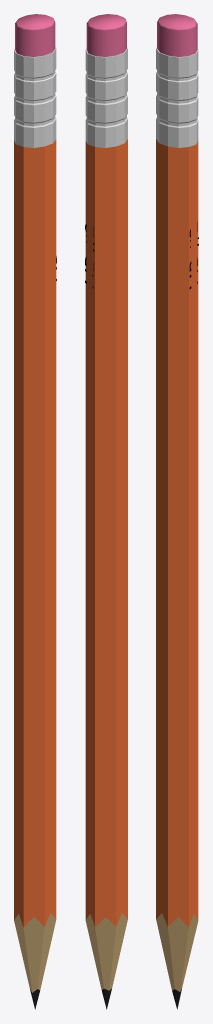
File: pencil.fbx
3 views of the same model, side by side, from view 1: azimuth 30°, elevation 25°; view 2: azimuth 210°, elevation 25°; view 3: azimuth 330°, elevation 25° (orthographic).
Parts seen in each view (by area): view 1: Cylinder; view 2: Cylinder; view 3: Cylinder.
Part boxes in pixels (x1,y1,x2,y2): Cylinder: (14,14,56,1009); Cylinder: (85,14,127,1009); Cylinder: (156,14,198,1009).
Bounding box in the file's own units: 0.8788 × 21.56 × 0.75.
